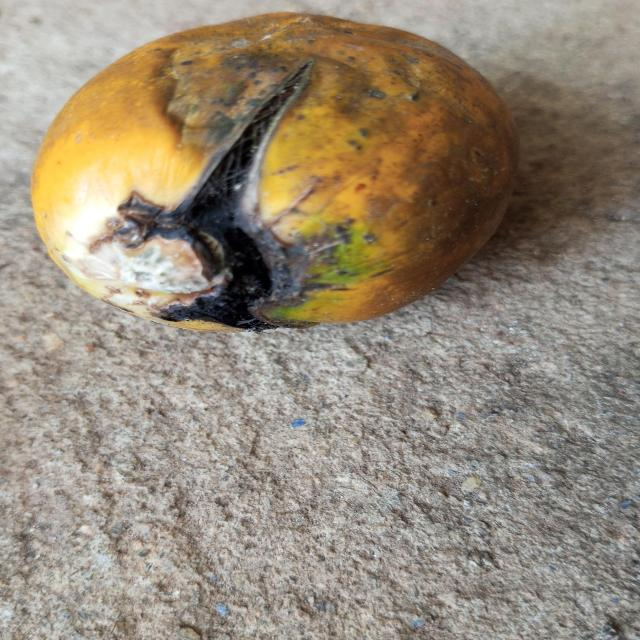damaged: (29, 11, 520, 332)
